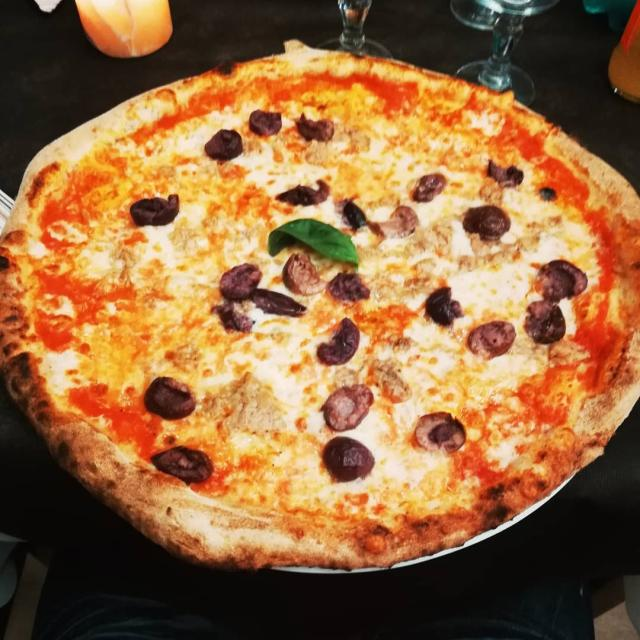black_olives: (320, 382, 380, 427), (146, 370, 200, 418), (157, 442, 218, 484), (518, 296, 572, 343), (532, 258, 587, 302), (412, 407, 466, 449), (460, 202, 514, 244), (323, 436, 373, 480), (128, 187, 178, 230), (469, 317, 518, 359), (316, 322, 359, 362), (206, 125, 247, 164), (219, 262, 260, 296), (285, 176, 327, 206), (247, 105, 280, 138), (300, 109, 333, 140)
mushrooms: (364, 201, 417, 243), (282, 256, 328, 302)
pizza: (0, 42, 640, 578)
